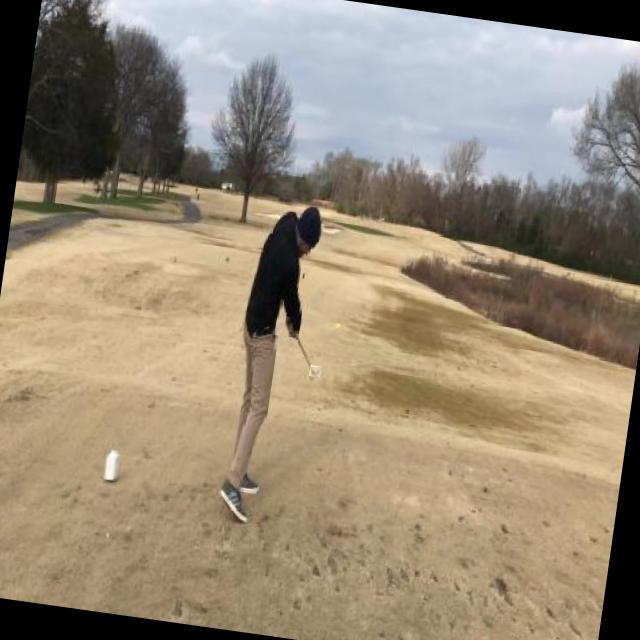club head: (310, 366, 322, 378)
